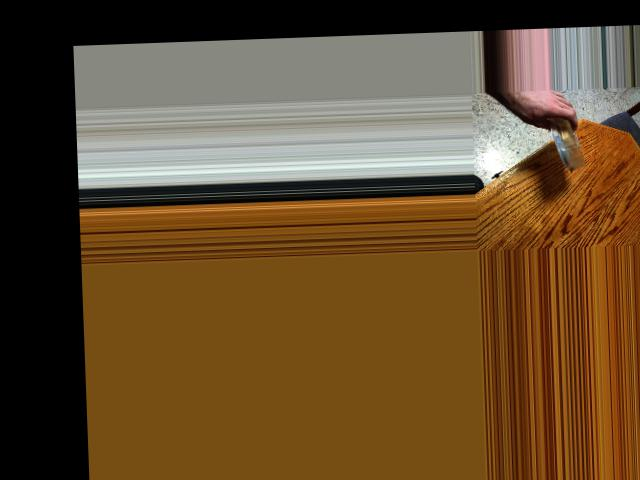cheese: (547, 116, 588, 163)
